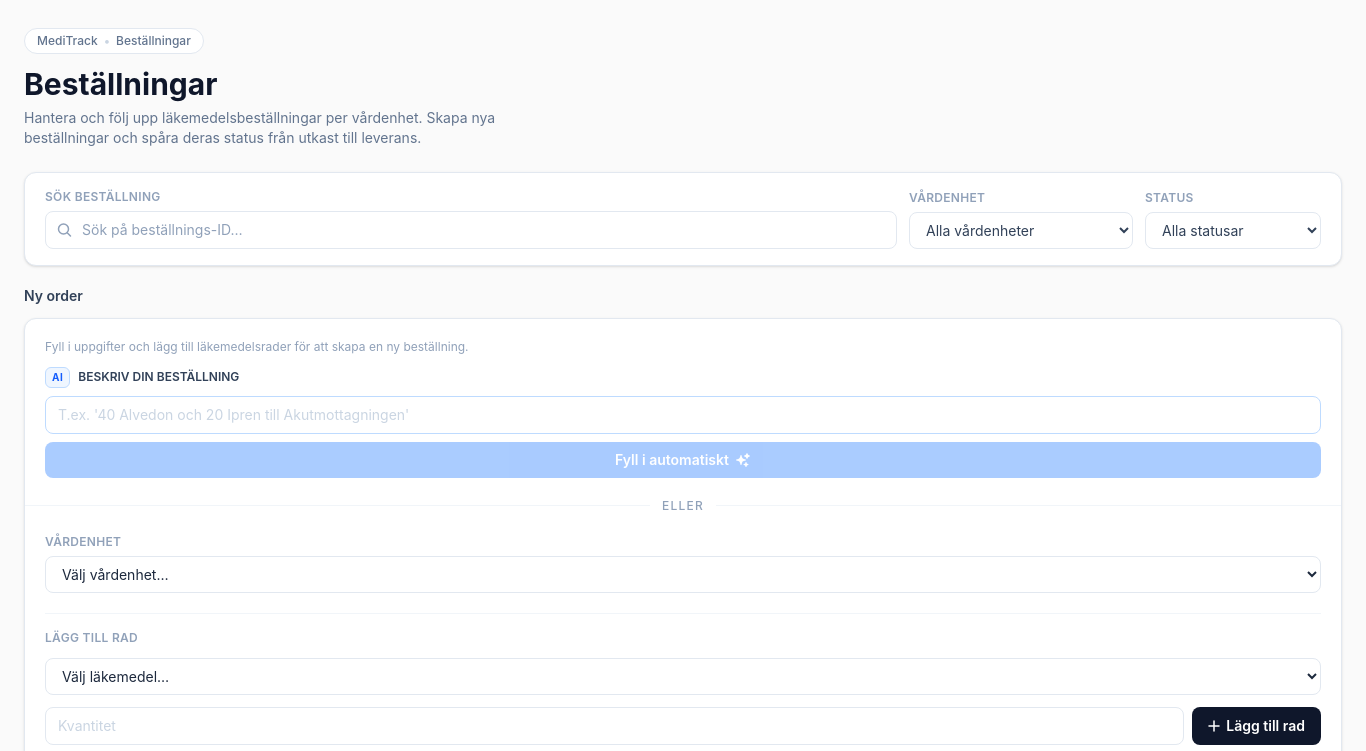
Test case: OrderManagement — creating a new order › adds the new order to the list after the form is saved
Select "Avdelning 1A – Medicin" in the 3rd dropdown showing "Välj vårdenhet…". click: x=683, y=574
box: [45,556,1321,592]
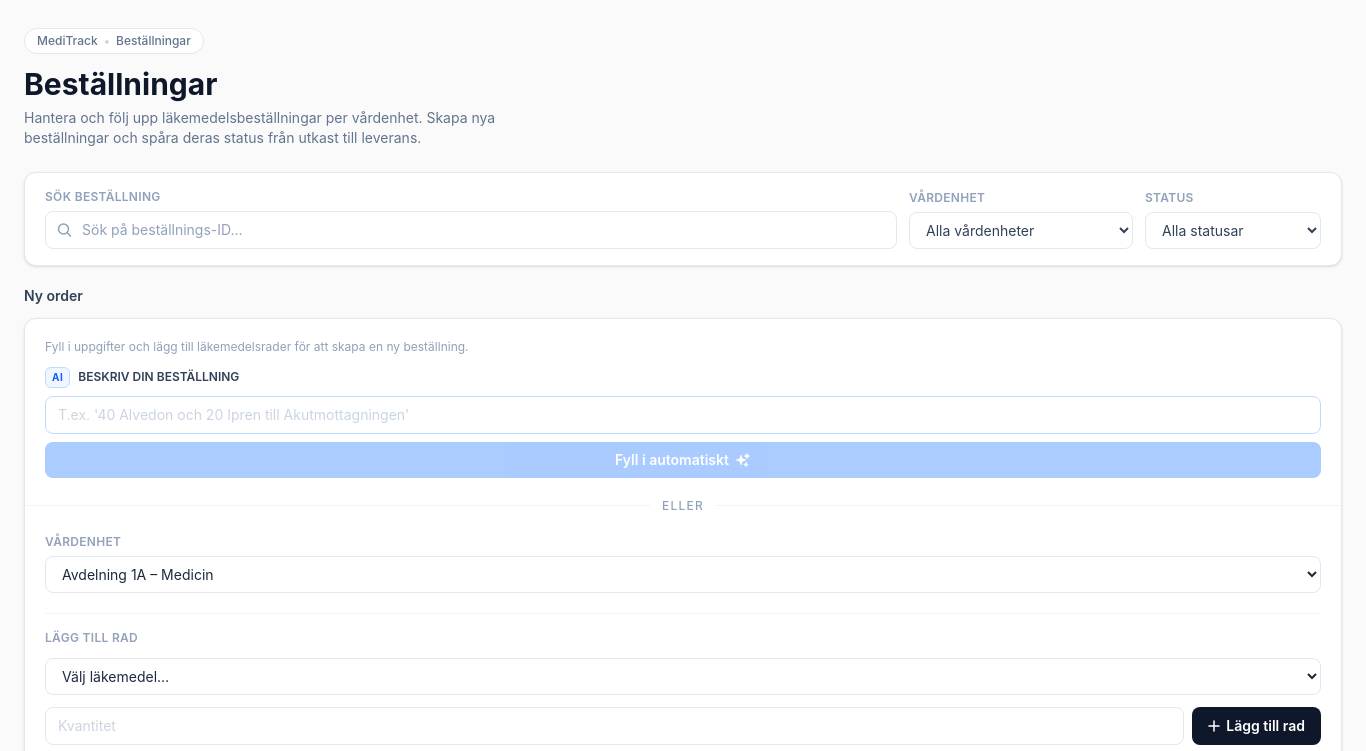
Select "Alvedon · 500 mg (Tablett)" in the 4th dropdown showing "Välj läkemedel…". click: x=683, y=676
box: [45,658,1321,694]
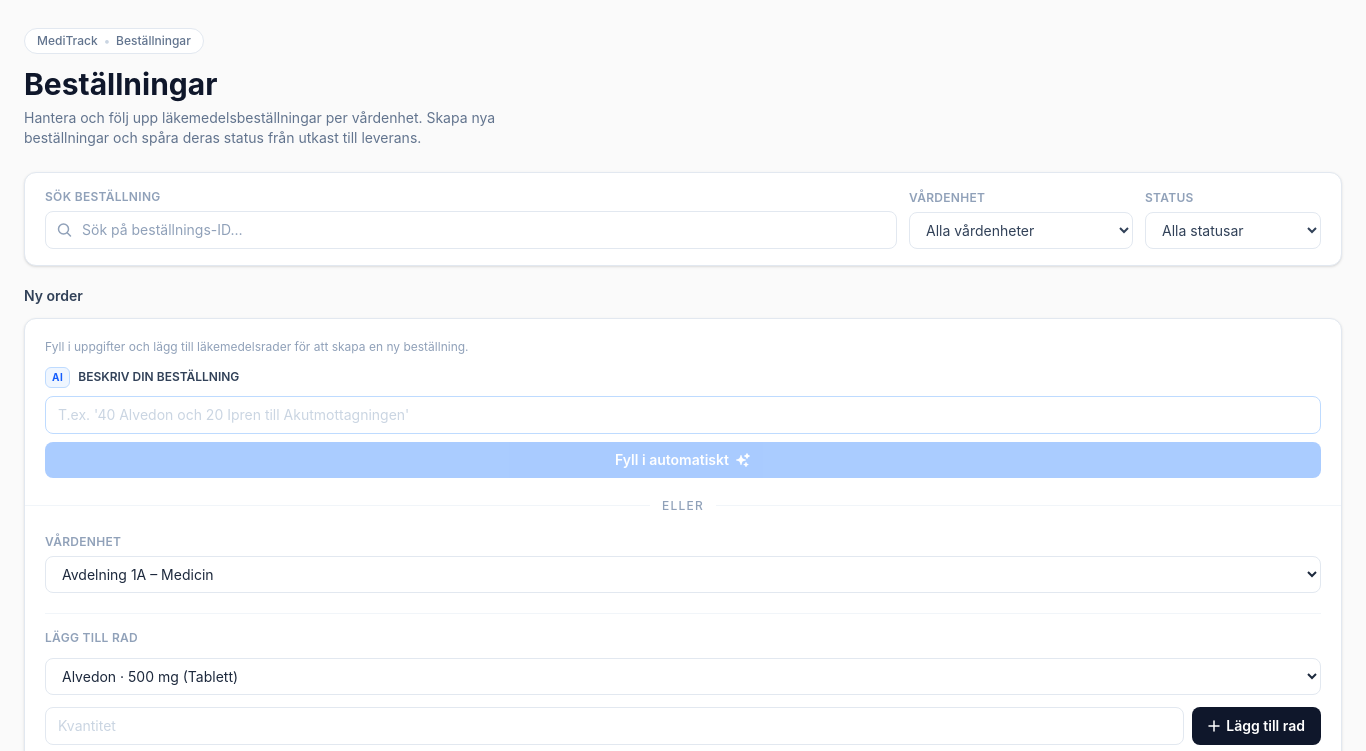
Type "25" into the number field with placeholder "Kvantitet". click: x=615, y=726
box: [45,706,1184,744]
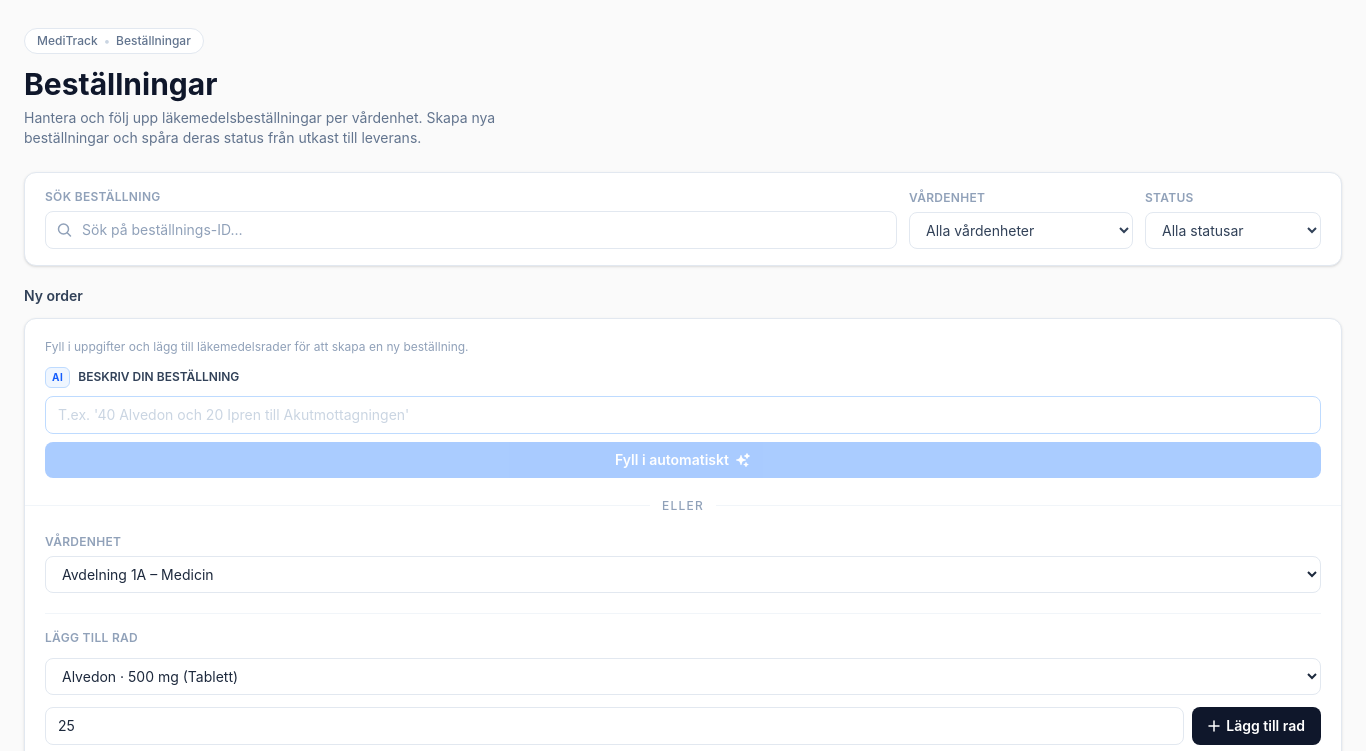
Click the button "Lägg till rad". click: x=1257, y=726
box: [1192,706,1321,744]
(page scrolled)
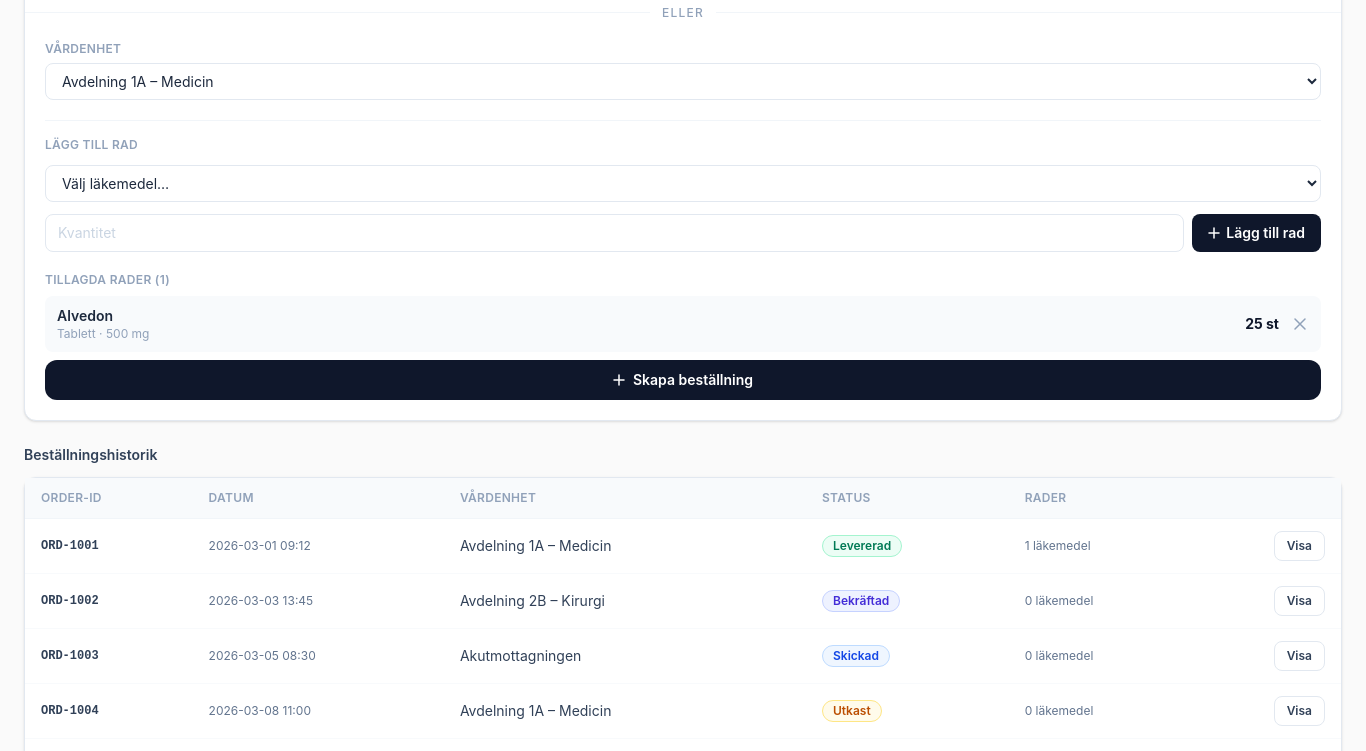
Click the button "Skapa beställning". click: x=683, y=380
box: [45,360,1321,400]
(page scrolled)
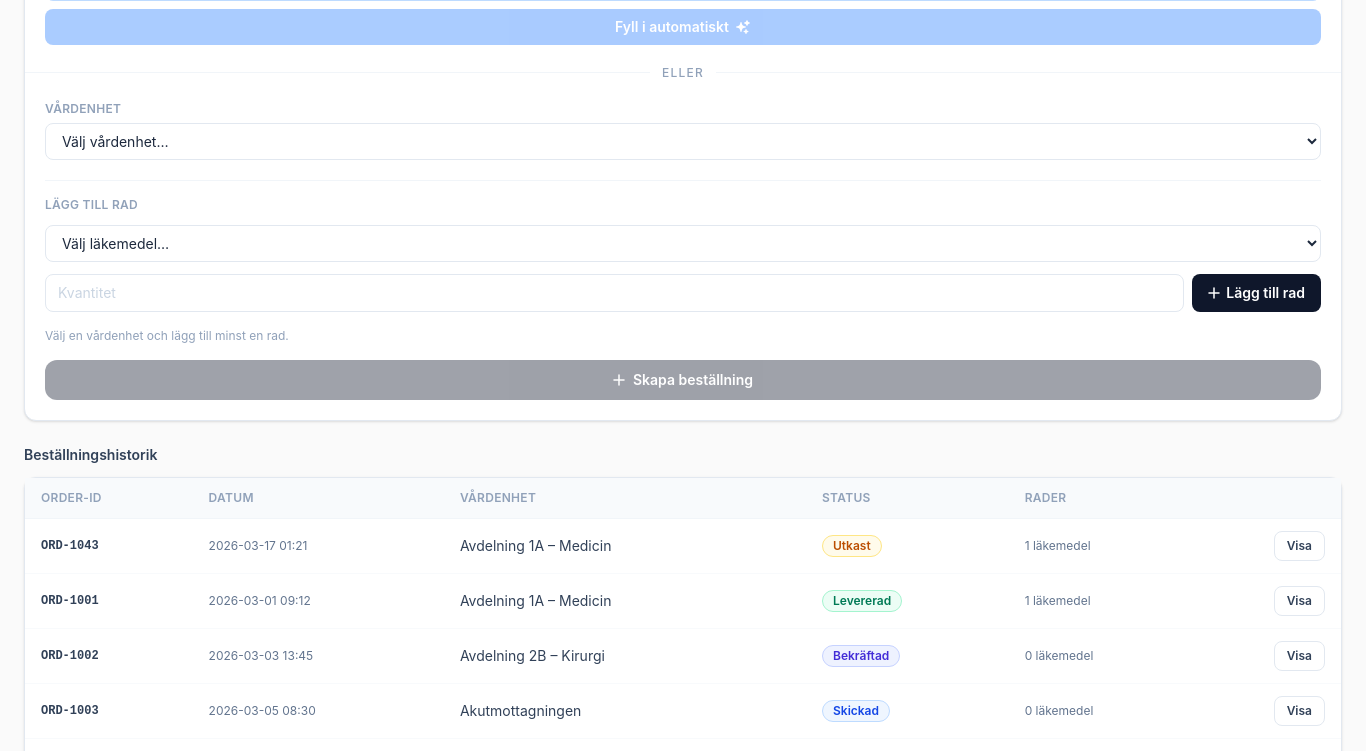
expect the text "ORD-1043" is shown: met, box [25,518,193,573]
